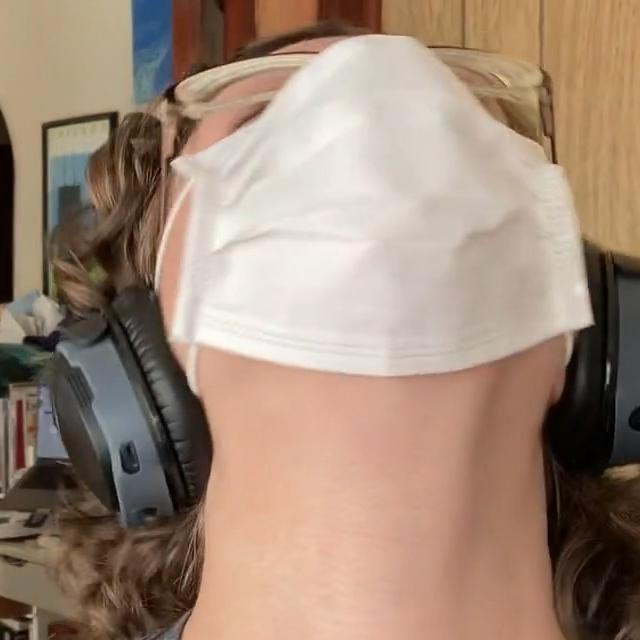Mask: (139, 36, 596, 377)
NO-Hardhat: (15, 47, 191, 300)
Person: (0, 36, 640, 640)
